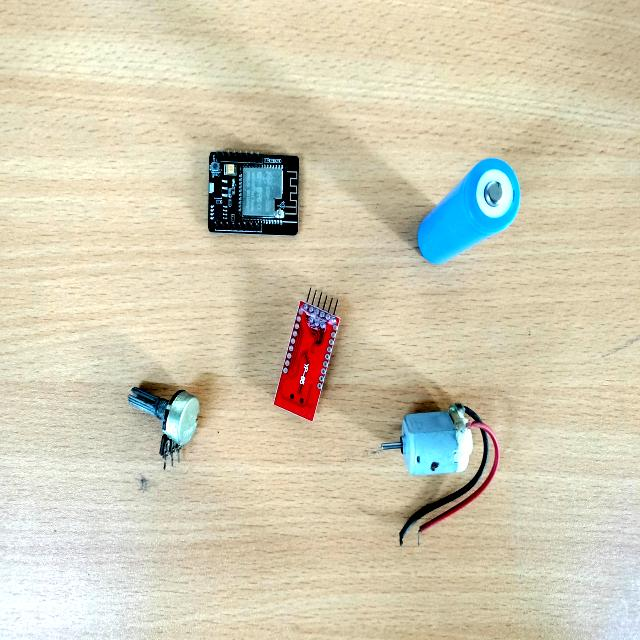3-3-Volt-Battery: (380, 132, 540, 305)
DC-Motor: (380, 373, 502, 563)
ESP32-CAM: (189, 128, 311, 258)
FT-232-USB-Serial-Module: (268, 273, 347, 433)
Taper-Potentiometer: (113, 364, 220, 491)
